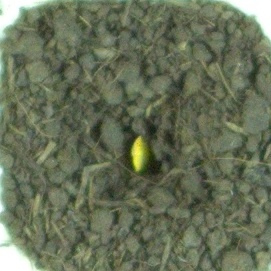pepper seed: (52, 45, 205, 220)
